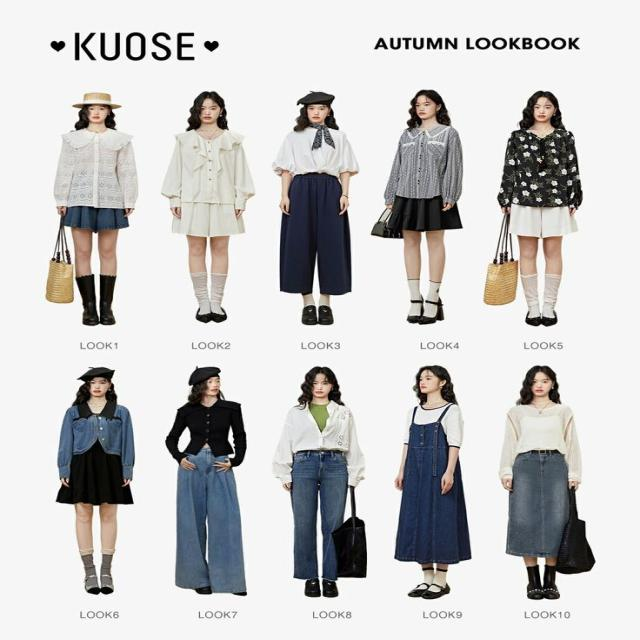person: (160, 90, 255, 324), (271, 366, 366, 597), (271, 90, 359, 326), (497, 90, 582, 326), (52, 92, 138, 325), (498, 365, 582, 600), (164, 366, 248, 595), (382, 89, 463, 324), (393, 364, 471, 599), (56, 366, 134, 595)
